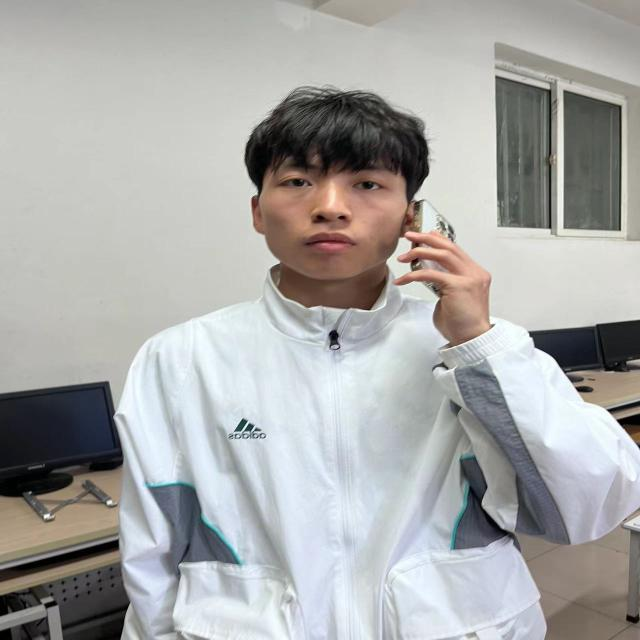phone: (411, 198, 458, 290)
